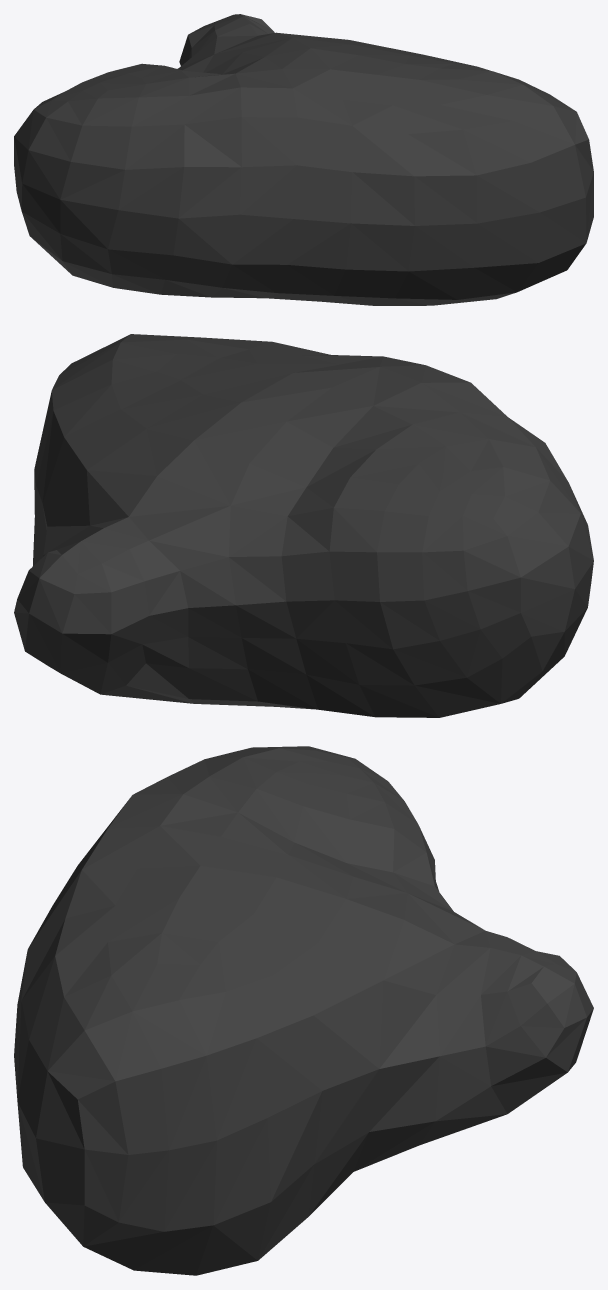
Rendered from RFL_carpal3.glb.
The picture shows the model from 3 angles, top to bottom: view 1: azimuth 30°, elevation 25°; view 2: azimuth 150°, elevation 25°; view 3: azimuth 270°, elevation 25°; orthographic projection. The views are drawn at different scales.
Visible parts, largest first — view 1: RFL_carpal3; view 2: RFL_carpal3; view 3: RFL_carpal3.
Boxes of the visible parts, <box> form: RFL_carpal3: <box>14,14,593,305</box>; RFL_carpal3: <box>14,334,593,717</box>; RFL_carpal3: <box>14,746,593,1275</box>.
Bounding box in the file's own units: 9.63 × 4.76 × 7.98.
Materials: 1 (1 with a texture image).
